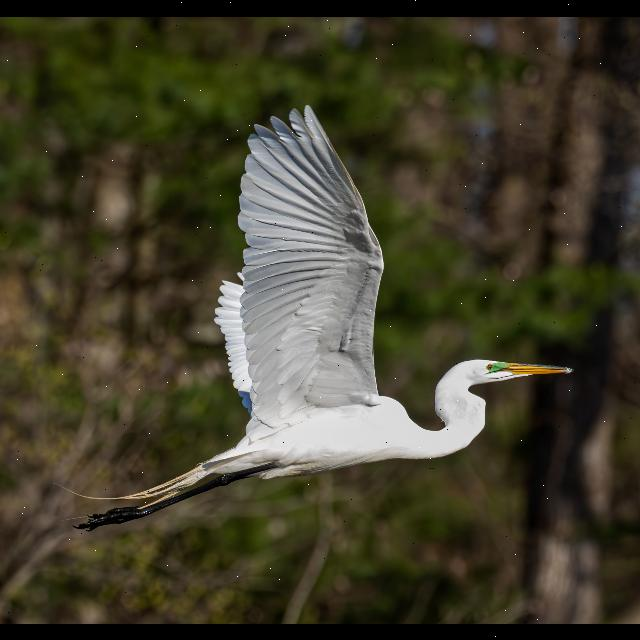egret: (70, 100, 578, 538)
